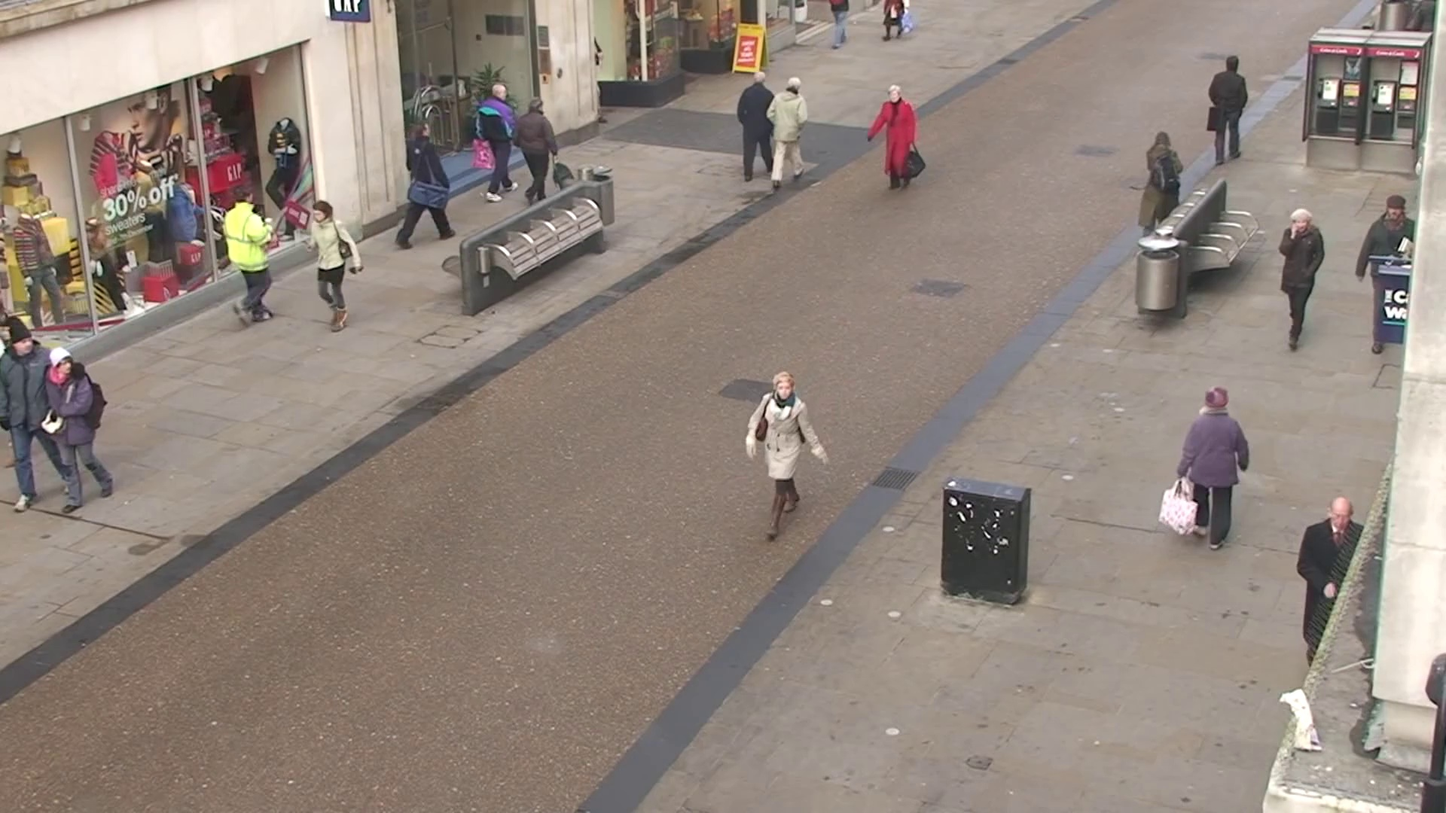person: (1294, 494, 1365, 749), (746, 370, 830, 542), (1176, 386, 1251, 550), (39, 349, 115, 510), (1, 325, 53, 511), (395, 116, 456, 249), (221, 190, 279, 327), (1277, 206, 1326, 352), (307, 199, 360, 330), (868, 82, 923, 190), (476, 79, 520, 199), (1354, 194, 1414, 281), (514, 97, 558, 202), (1207, 55, 1249, 164), (768, 76, 809, 183), (737, 72, 776, 183), (1145, 130, 1184, 231)
